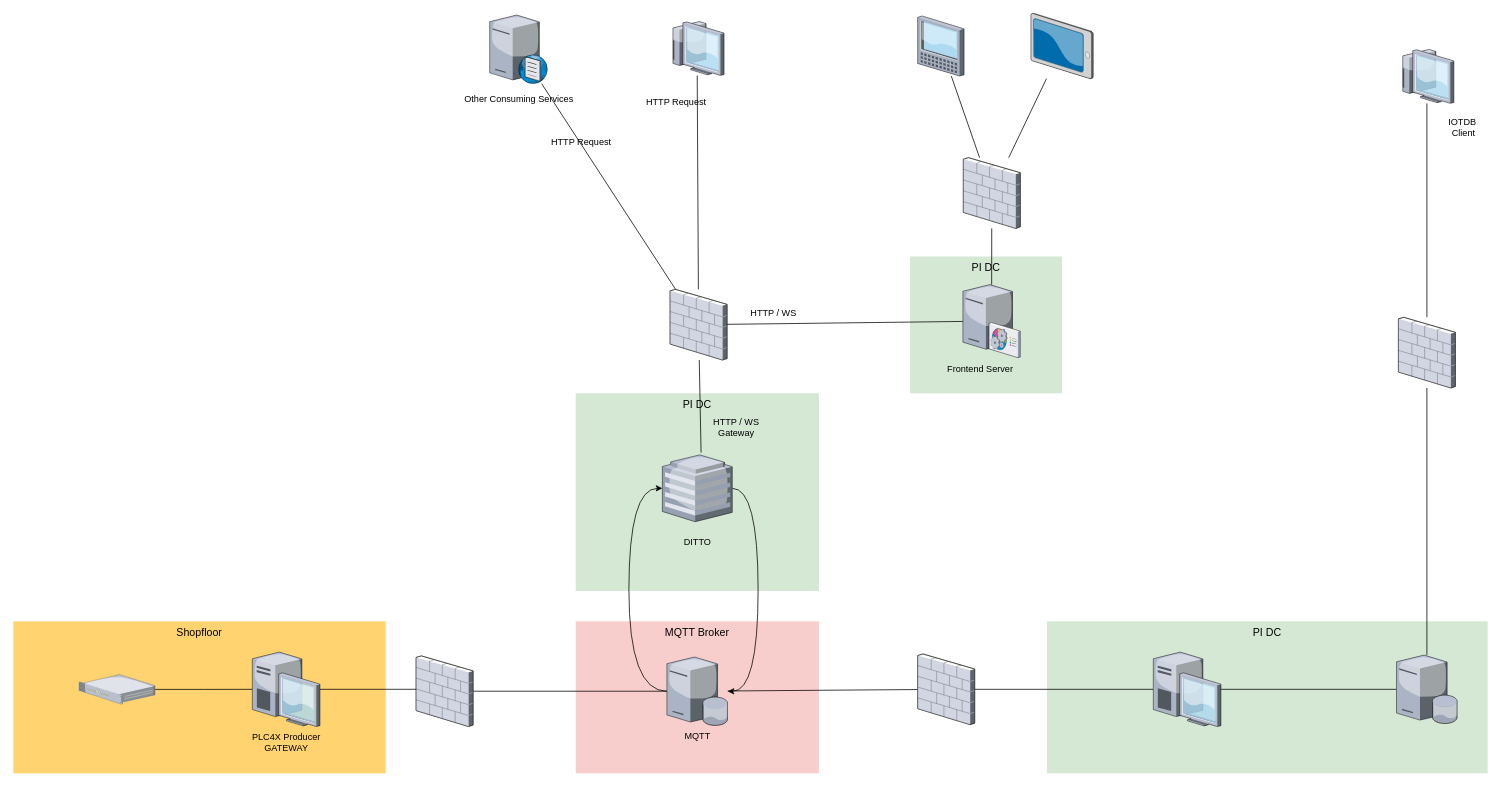
The diagram is 1500 pixels wide and 786 high, and some of its shapes have lost their labels. The centre of each missing label's shape, as x and y in pixels:
GATEWAY: pixel 1187 689
IOTDB Server: pixel 1426 689
PLC: pixel 117 689
